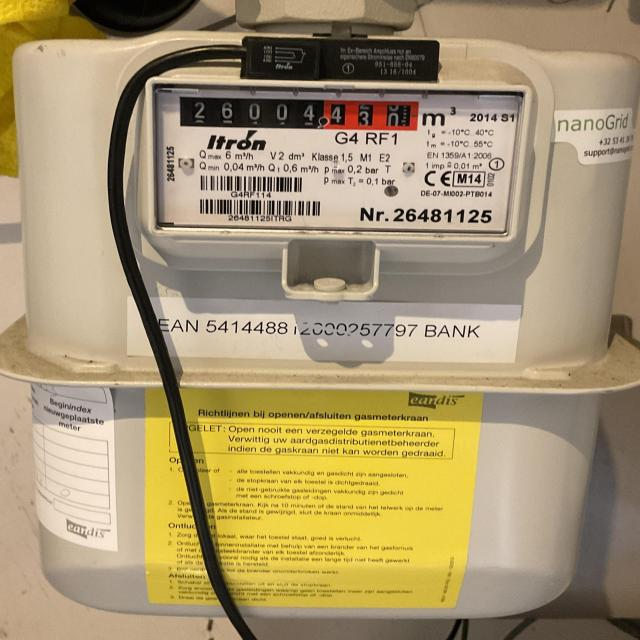gaz_meter: (150, 78, 518, 242)
indication: (175, 97, 419, 134)
